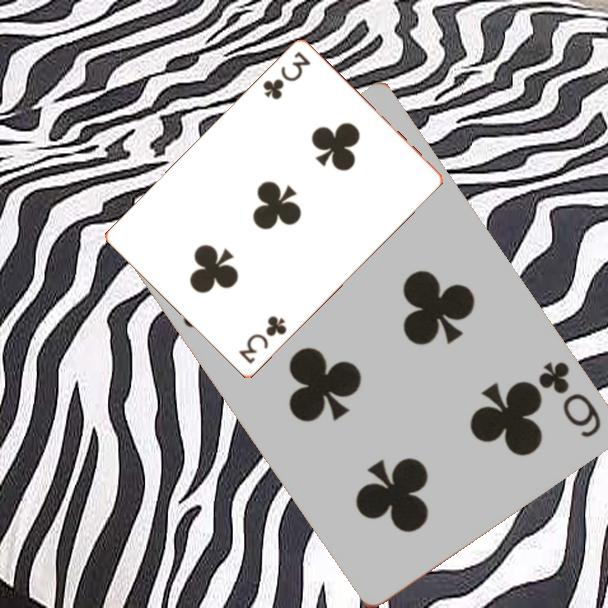c03: (259, 48, 314, 103), (235, 313, 290, 367)
c06: (534, 357, 604, 441)
